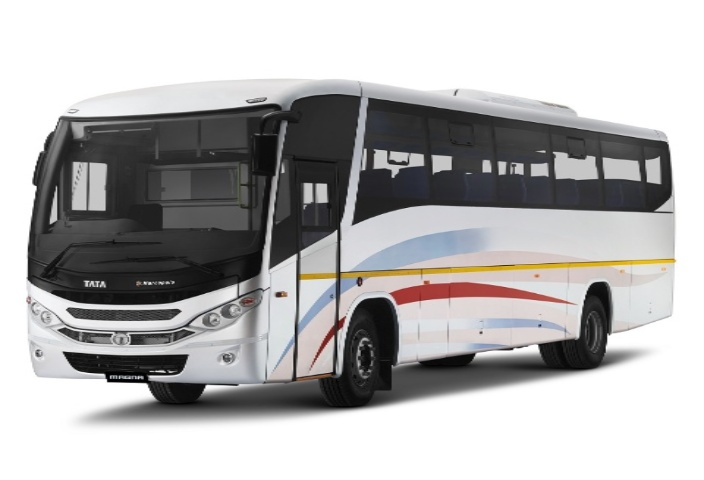bus: (22, 76, 688, 397)
